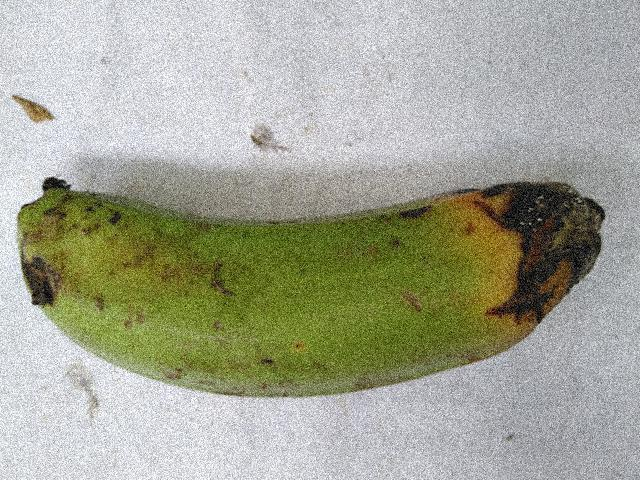rotten: (408, 136, 614, 381)
unripe: (7, 163, 439, 407)
